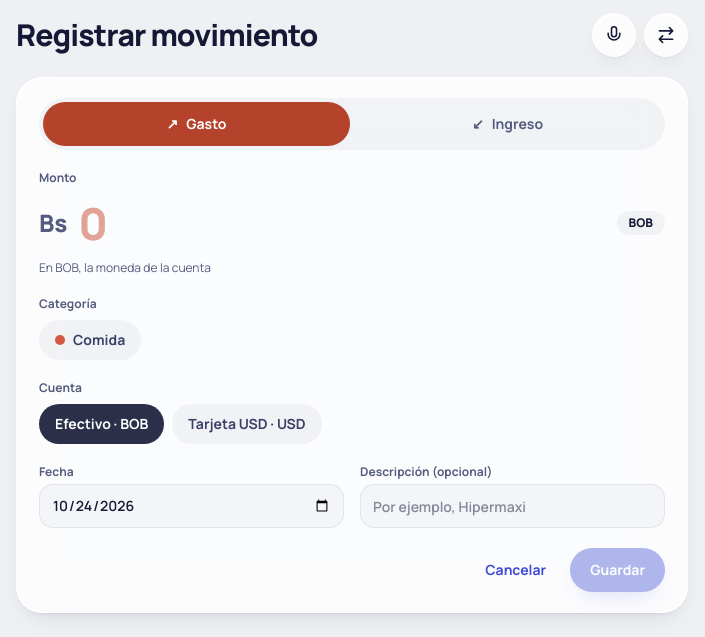
registro por voz › RF-7 a failed dictation says so
The image size is (705, 637).
Step 1. Click the button named "Dictar" → [614, 34], box left=592, top=12, right=636, bottom=56
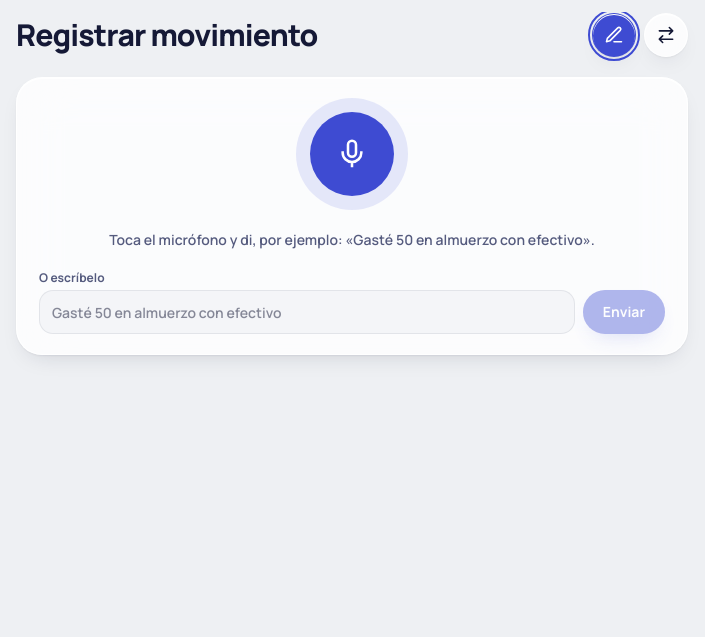
Step 2. Type "Gasté 50" into the field labelled "O escríbelo" → [307, 312], box left=39, top=290, right=575, bottom=334
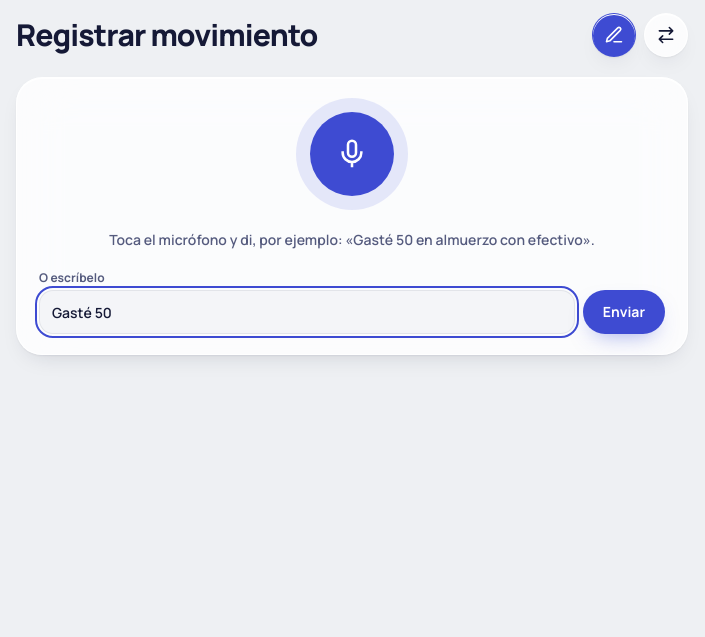
Step 3. Click the button "Enviar" → [624, 312], box left=583, top=290, right=665, bottom=334
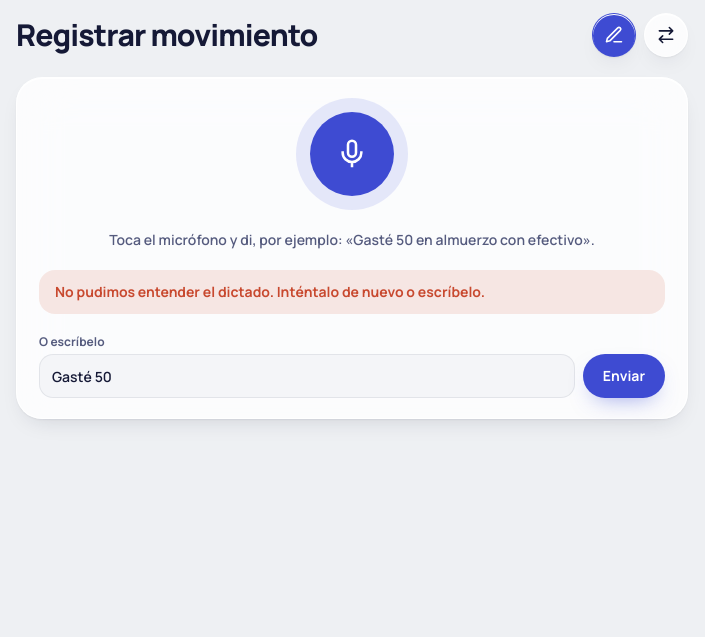
expect the text "No pudimos entender el dictado. Inténtalo de nuevo o escríbelo." is shown: met, box left=39, top=270, right=665, bottom=314
